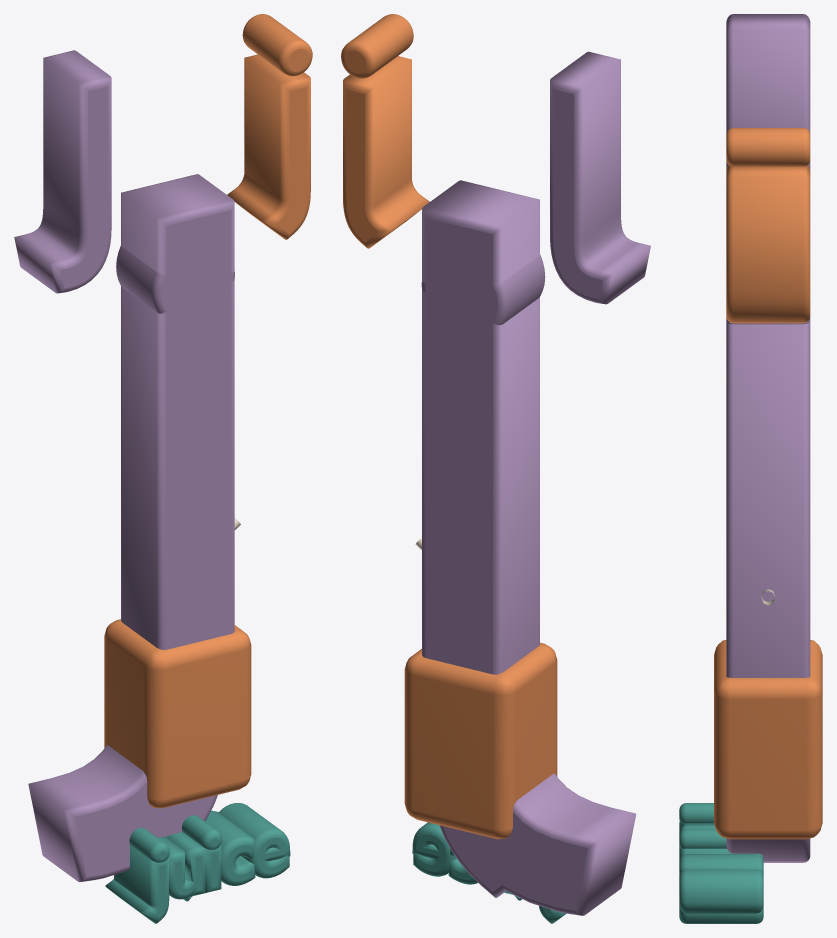
File: letter-j.glb
The picture shows the model from 3 angles, left to right: view 1: azimuth 30°, elevation 25°; view 2: azimuth 150°, elevation 25°; view 3: azimuth 270°, elevation 25°; orthographic projection. The views are drawn at different scales.
Parts seen in each view (by area): view 1: letter solid, juice carton, uppercase solid, lowercase solid, example word, letter solid.001; view 2: letter solid, juice carton, letter solid.001, uppercase solid, lowercase solid, example word; view 3: letter solid, juice carton, lowercase solid, uppercase solid, example word, letter solid.001.
Part boxes in pixels (<box>): letter solid: <box>28,174,234,881</box>; juice carton: <box>104,619,251,808</box>; uppercase solid: <box>14,50,111,293</box>; lowercase solid: <box>227,14,312,239</box>; example word: <box>105,803,290,923</box>; letter solid.001: <box>116,246,234,832</box>; letter solid: <box>422,180,636,915</box>; juice carton: <box>404,642,557,839</box>; letter solid.001: <box>421,254,545,897</box>; uppercase solid: <box>550,51,650,304</box>; lowercase solid: <box>341,14,429,248</box>; example word: <box>412,822,566,923</box>; letter solid: <box>726,322,810,677</box>; juice carton: <box>714,640,822,839</box>; lowercase solid: <box>726,128,810,323</box>; uppercase solid: <box>726,14,810,169</box>; example word: <box>679,803,763,923</box>; letter solid.001: <box>726,317,810,862</box>.
Bounding box in the file's own units: 0.6516 × 1.99 × 0.306.
